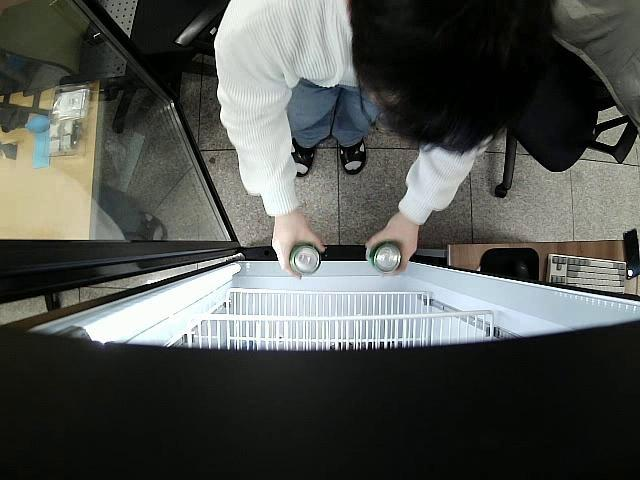12_chilsungCider: (368, 241, 402, 272), (290, 242, 321, 275)
